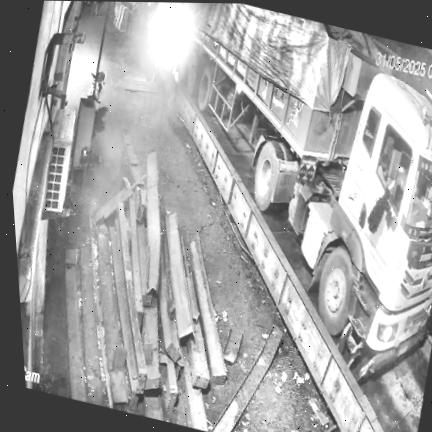tyre: (318, 247, 352, 336), (254, 142, 279, 211), (198, 63, 214, 111), (186, 62, 198, 95)
